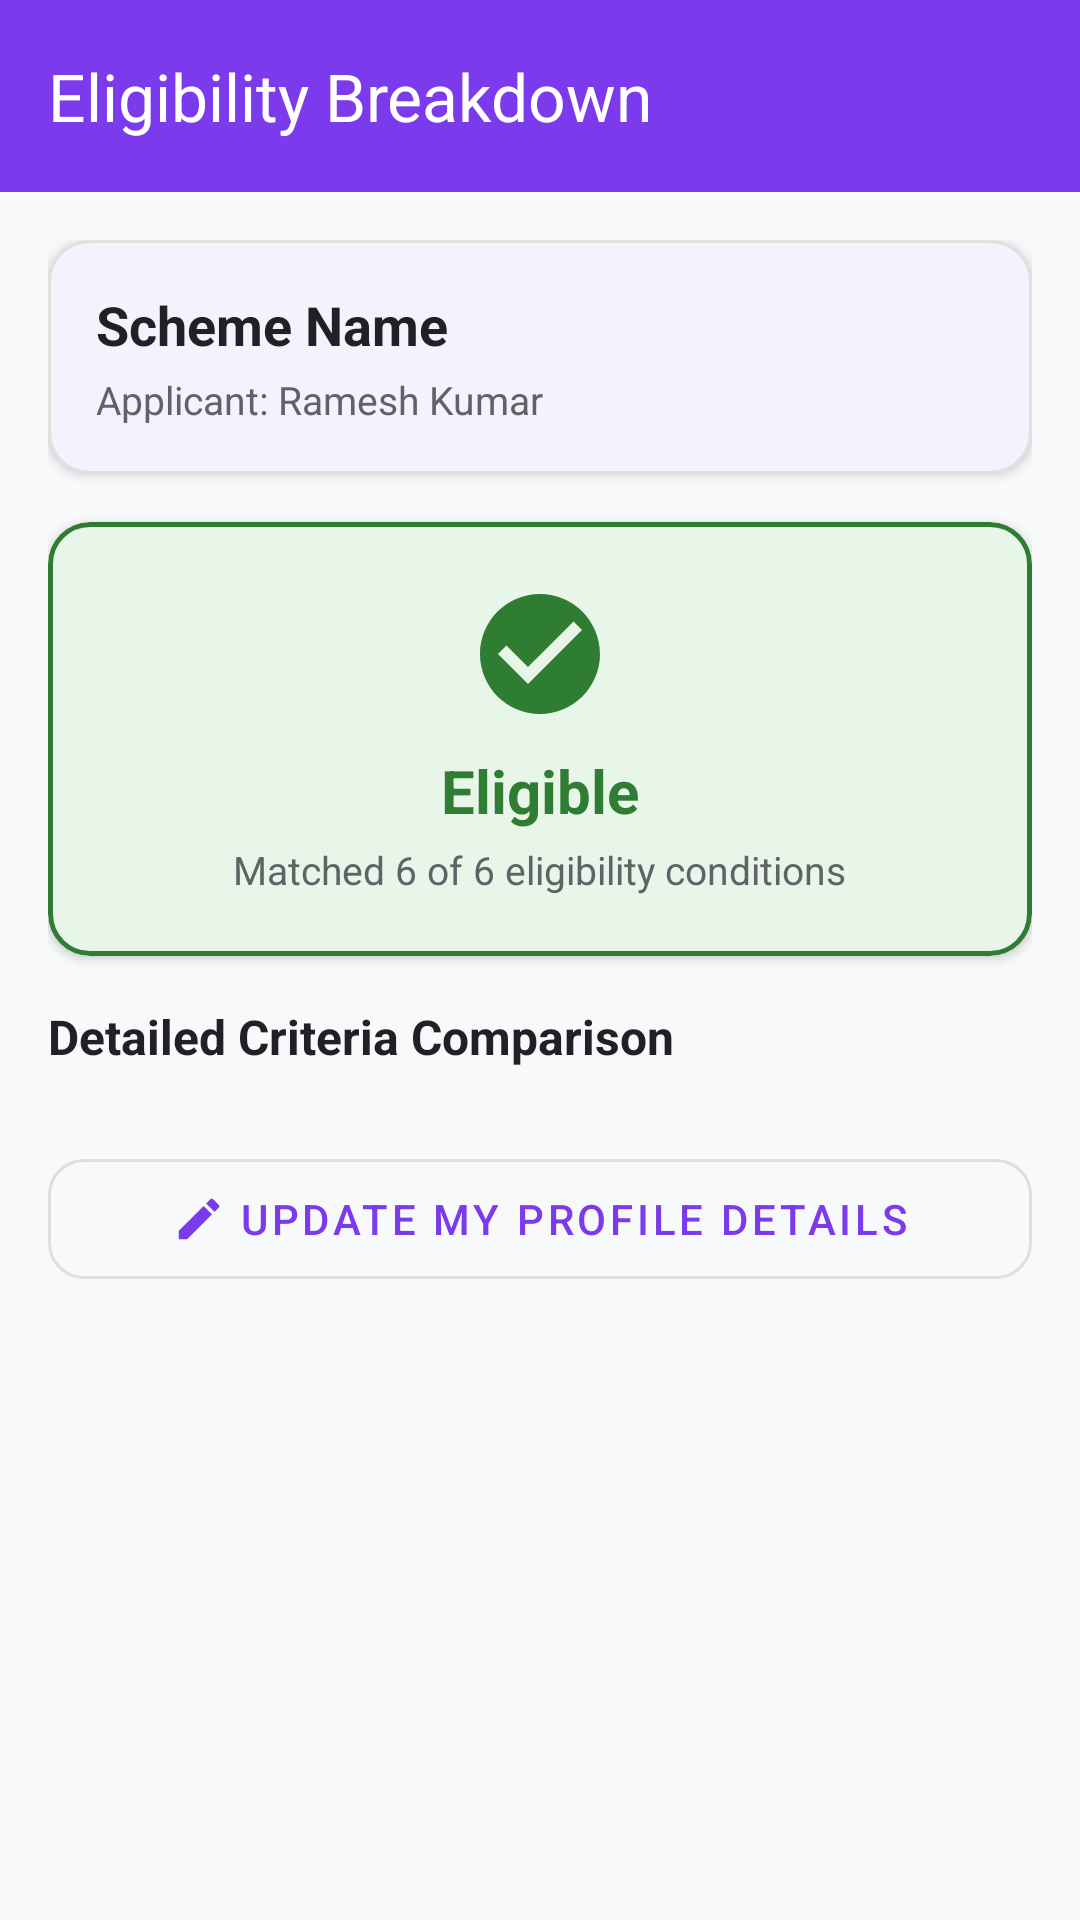

Locate icon controls on the screen. Image size 1080 x 1920, boxes as region(x1, y1, x2, y2).
Status Icon: region(480, 594, 600, 714)
